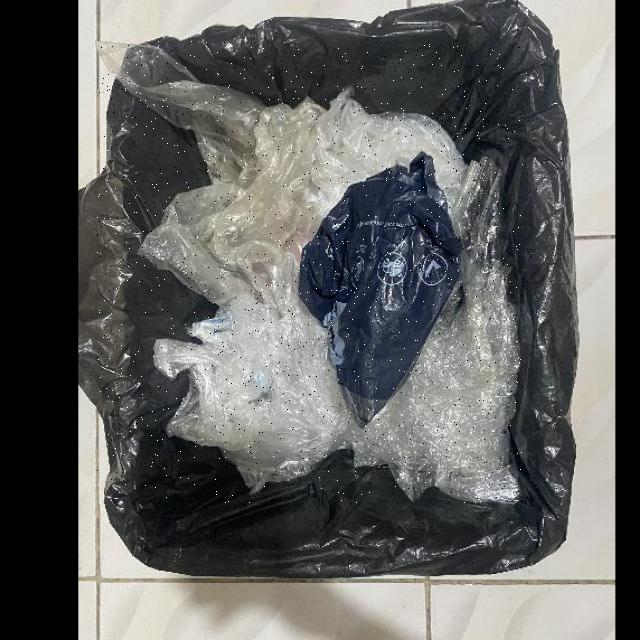plastic: (98, 41, 523, 504), (301, 152, 468, 427)
